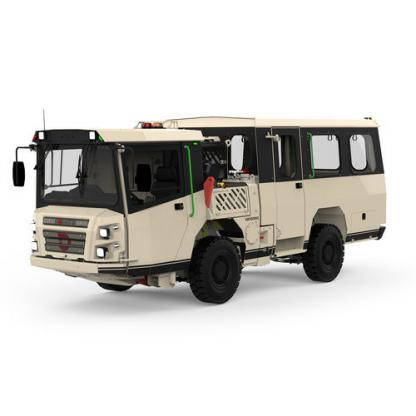dump_truck: (29, 99, 398, 317)
